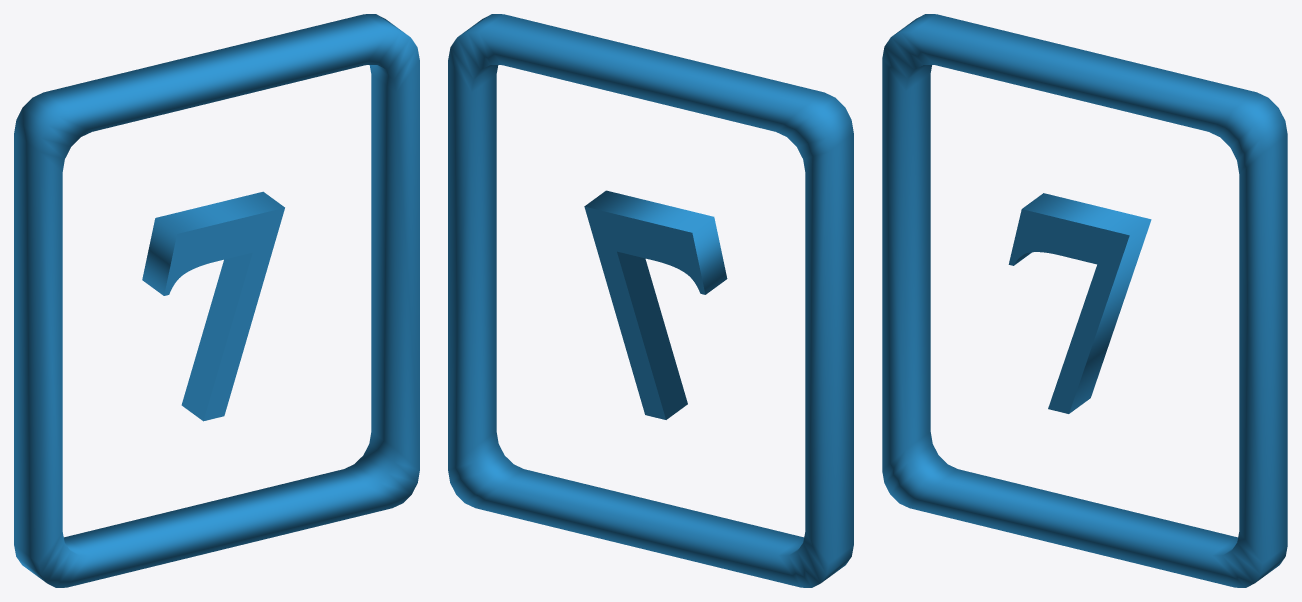
File: Number_7.gltf
3 views of the same model, side by side, from view 1: azimuth 30°, elevation 25°; view 2: azimuth 150°, elevation 25°; view 3: azimuth 330°, elevation 25° (orthographic).
Parts seen in each view (by area): view 1: Numbers.008; view 2: Numbers.008; view 3: Numbers.008.
Boxes of the visible parts, x1,y1,x2,y2 form: Numbers.008: (14, 14, 419, 587); Numbers.008: (448, 14, 853, 587); Numbers.008: (882, 14, 1287, 587).
Size of the model in its own units: 1 by 1.2 by 0.1143.
